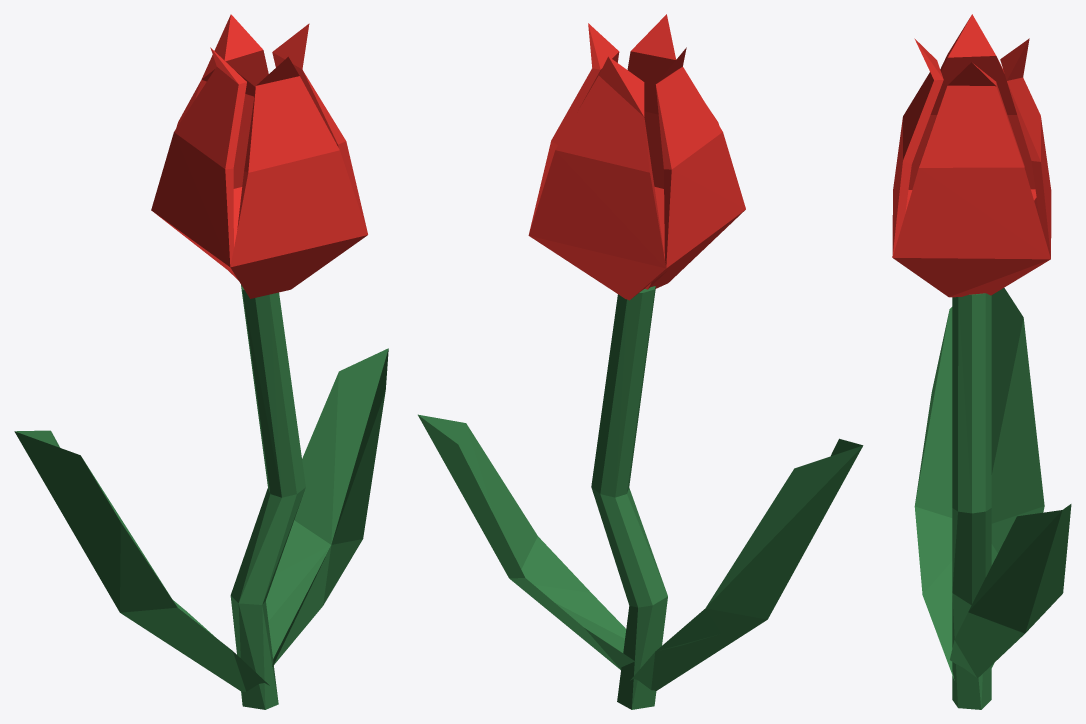
Rendered from Blume rot.glb.
The picture shows the model from 3 angles, left to right: view 1: azimuth 30°, elevation 25°; view 2: azimuth 150°, elevation 25°; view 3: azimuth 270°, elevation 25°; orthographic projection.
Visible parts, largest first — view 1: Cylinder.008; view 2: Cylinder.008; view 3: Cylinder.008.
Part boxes in pixels (bbox=[...]): Cylinder.008: bbox=[14, 14, 388, 709]; Cylinder.008: bbox=[418, 14, 863, 709]; Cylinder.008: bbox=[892, 14, 1071, 709].
Size of the model in its own units: 1.37 by 2.13 by 0.5192.
